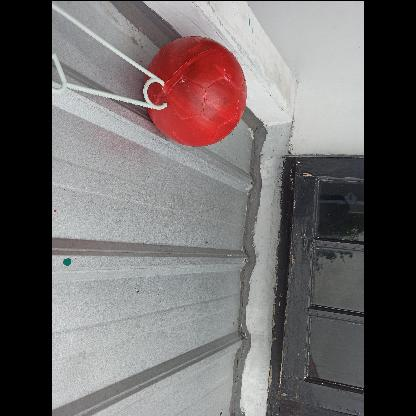red_ball: (145, 39, 251, 145)
